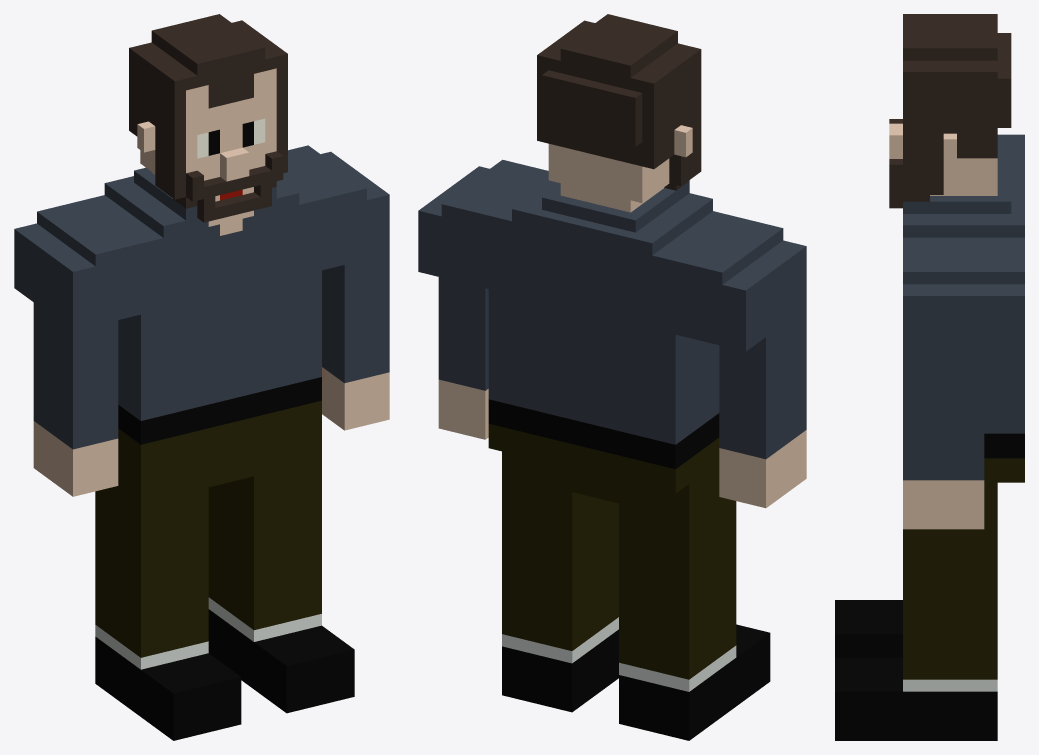
The model's file is mason.obj.
3 renders of one model, left to right at view 1: azimuth 30°, elevation 25°; view 2: azimuth 150°, elevation 25°; view 3: azimuth 270°, elevation 25°, orthographic. The views are drawn at different scales.
Bounding box in the file's own units: 28 × 54 × 14.
Materials: 1 (1 with a texture image).
